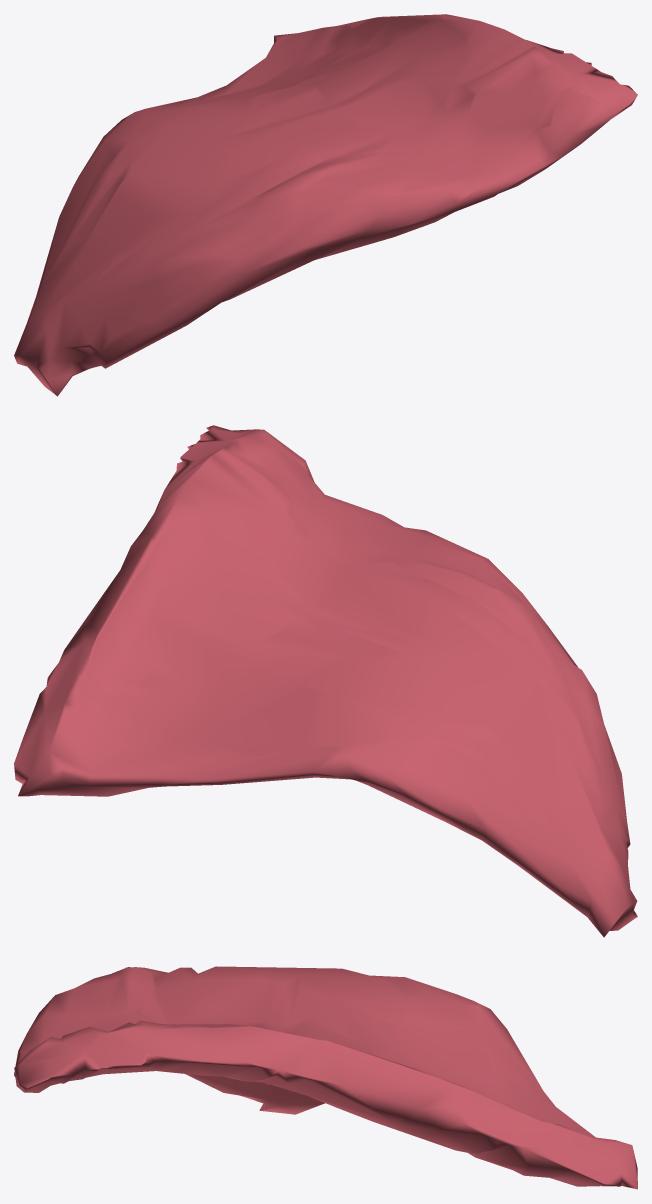
3 renders of one model, top to bottom at view 1: azimuth 30°, elevation 25°; view 2: azimuth 150°, elevation 25°; view 3: azimuth 270°, elevation 25°, orthographic. The views are drawn at different scales.
Visible parts, largest first — view 1: 右侧拇收肌横头; view 2: 右侧拇收肌横头; view 3: 右侧拇收肌横头.
Boxes of the visible parts, left/top/right/bottom form: 右侧拇收肌横头: left=14, top=14, right=637, bottom=396; 右侧拇收肌横头: left=14, top=425, right=637, bottom=937; 右侧拇收肌横头: left=14, top=966, right=637, bottom=1189.
Bounding box in the file's own units: 0.0629 × 0.0343 × 0.0581.
